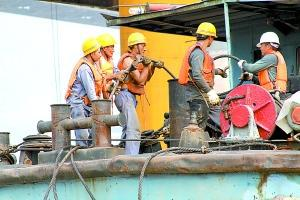helmet: (194, 19, 219, 51), (80, 34, 105, 65), (96, 29, 117, 64), (257, 29, 282, 57), (126, 32, 148, 58)
